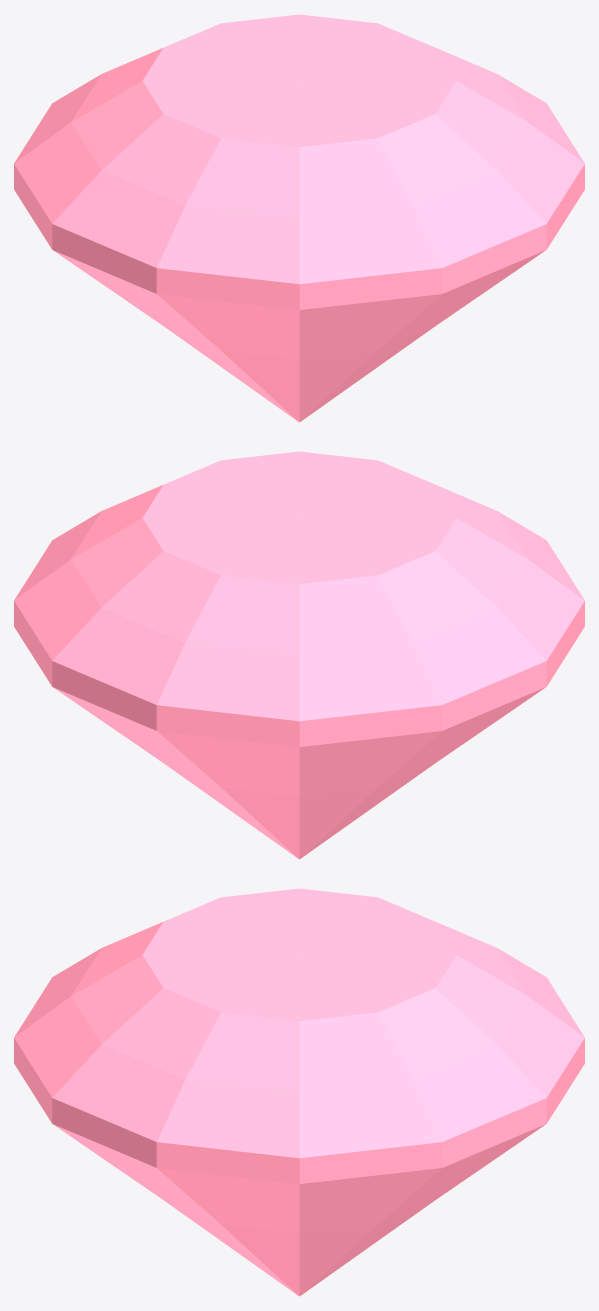
Rendered from spinel-jewel.glb.
The picture shows the model from 3 angles, top to bottom: view 1: azimuth 30°, elevation 25°; view 2: azimuth 150°, elevation 25°; view 3: azimuth 270°, elevation 25°; orthographic projection.
Parts seen in each view (by area): view 1: Spinel; view 2: Spinel; view 3: Spinel.
Boxes of the visible parts, left/top/right/bottom form: Spinel: left=14, top=14, right=584, bottom=422; Spinel: left=14, top=451, right=584, bottom=859; Spinel: left=14, top=888, right=584, bottom=1296.
Bounding box in the file's own units: 2 × 1.32 × 2.
